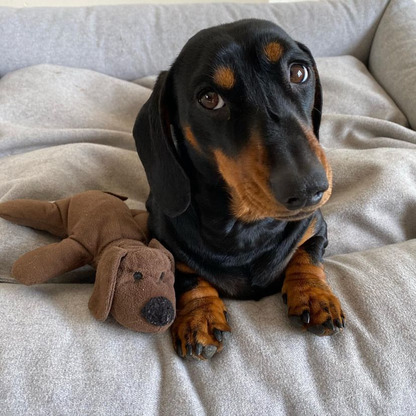dachshund: (135, 14, 350, 340)
